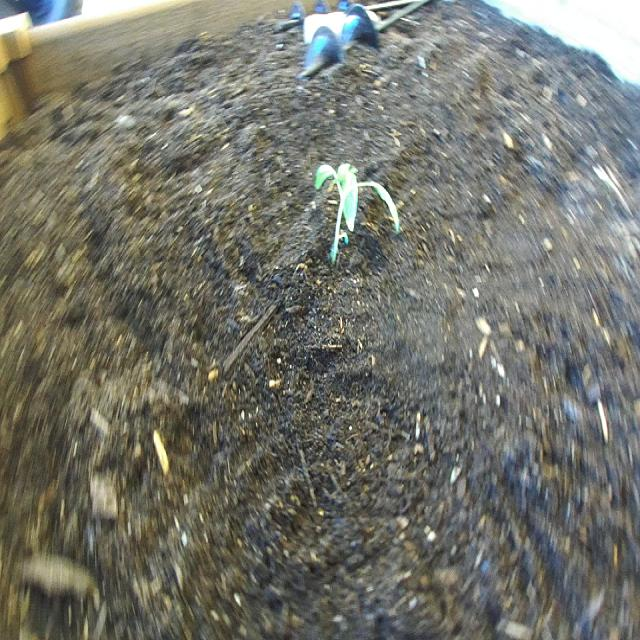Healthy: (301, 148, 405, 285)
